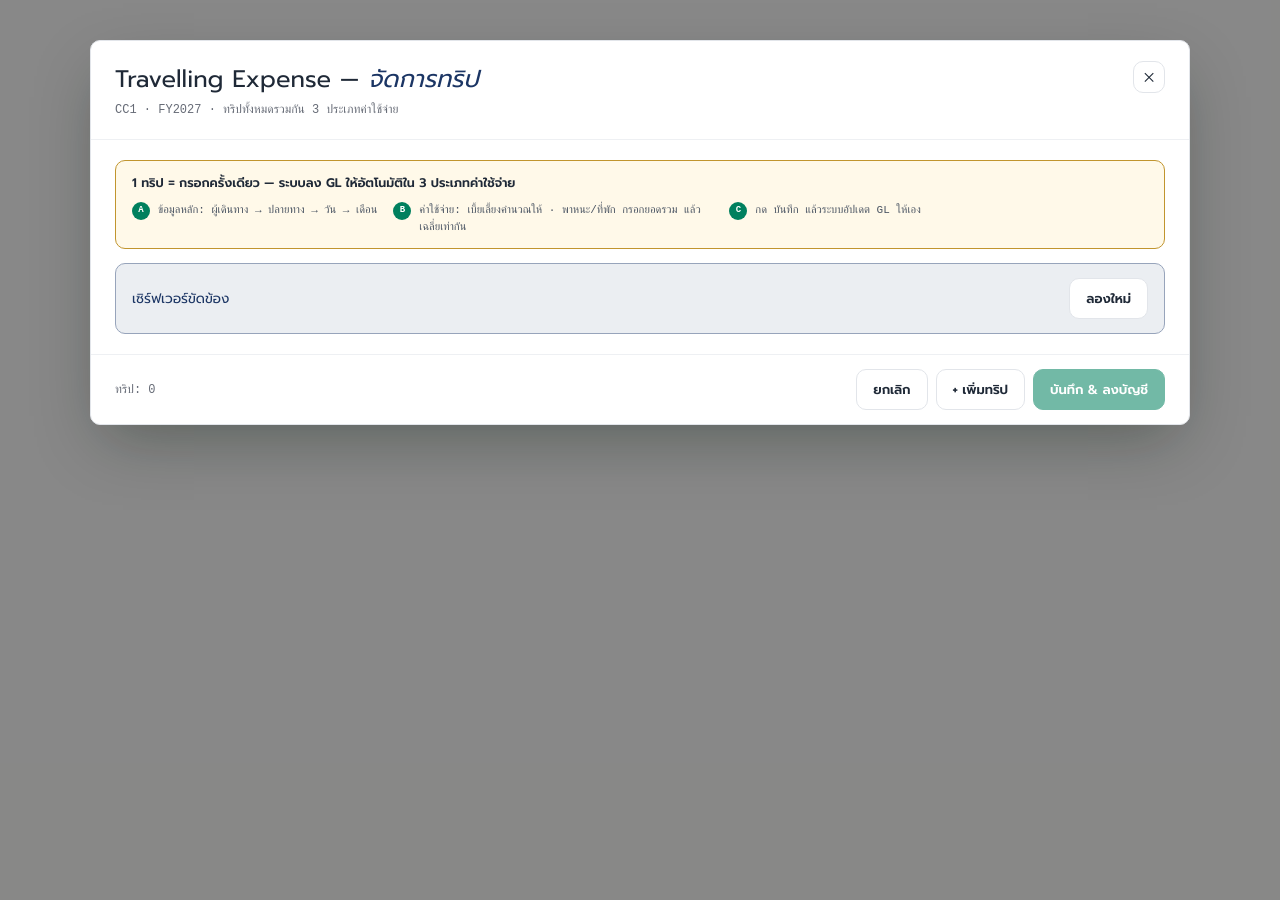
Test: TripManager › shows an error state with retry on fetch failure
The image size is (1280, 900).
Expected: the text "เซิร์ฟเวอร์ขัดข้อง" is shown, 132,289 -> 229,309
What coordinates should you click on to do the following:
click the button "ลองใหม่"
I would click on:
 (1109, 299)
Its box is 1069,278 -> 1148,320.
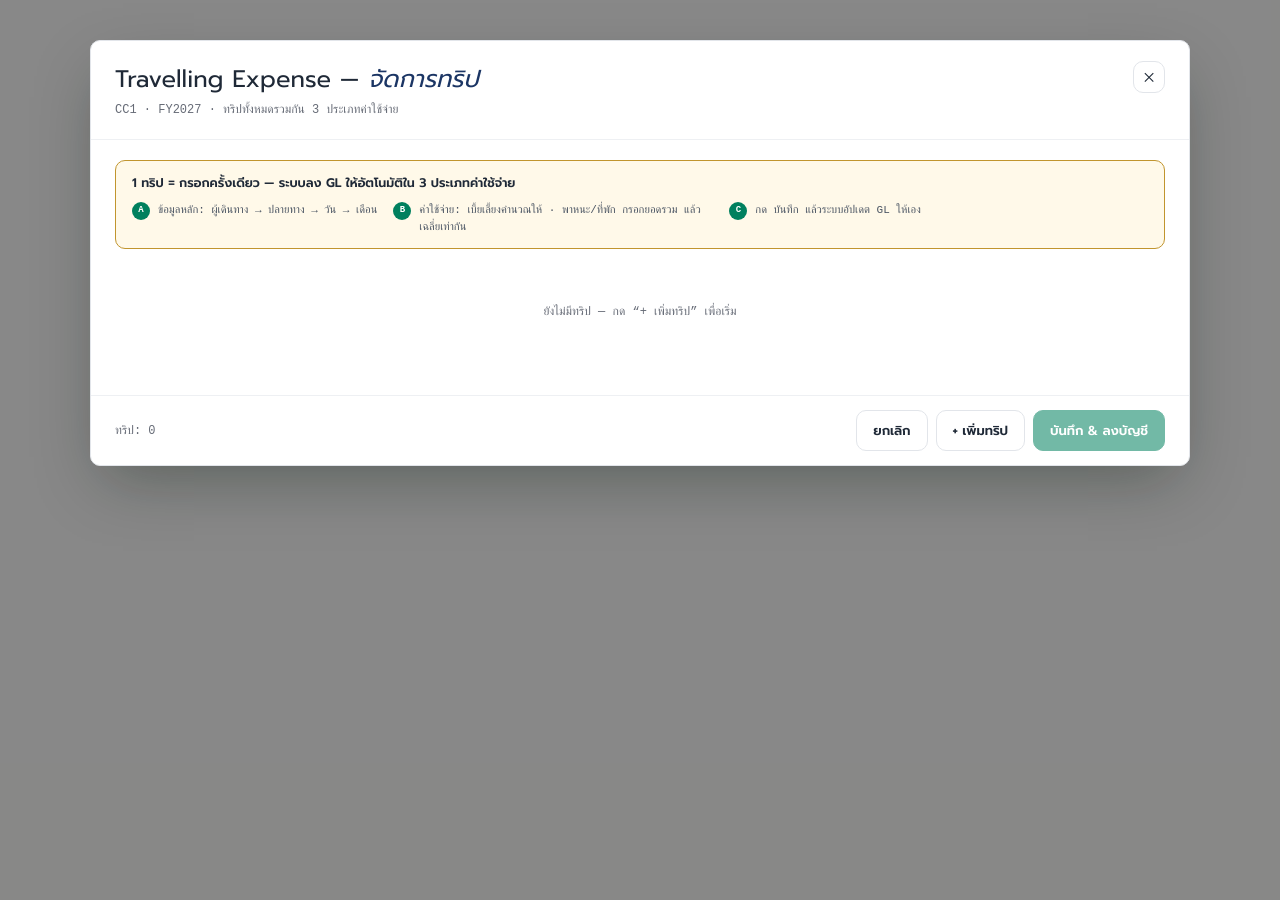
Expected: the text "ยังไม่มีทริป — กด “+ เพิ่มทริป” เพื่อเริ่ม" is shown, 543,306 -> 737,320
